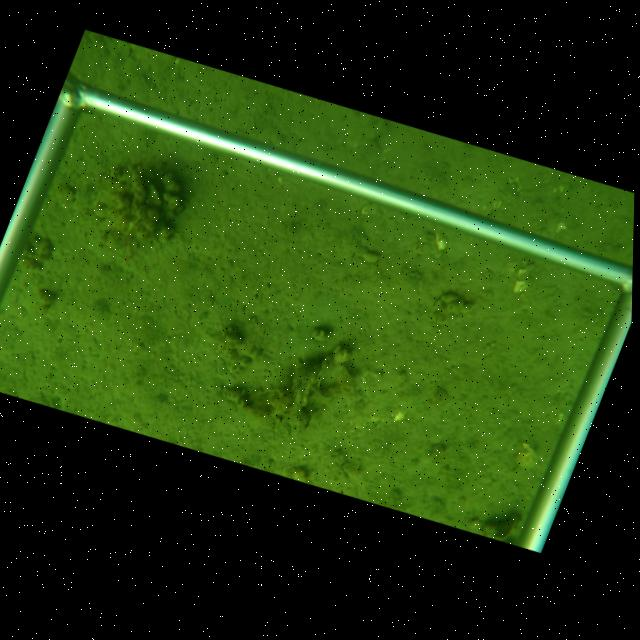Oyster-Closed: (287, 385, 303, 424)
Oyster-Indeterminate: (144, 181, 164, 208)
